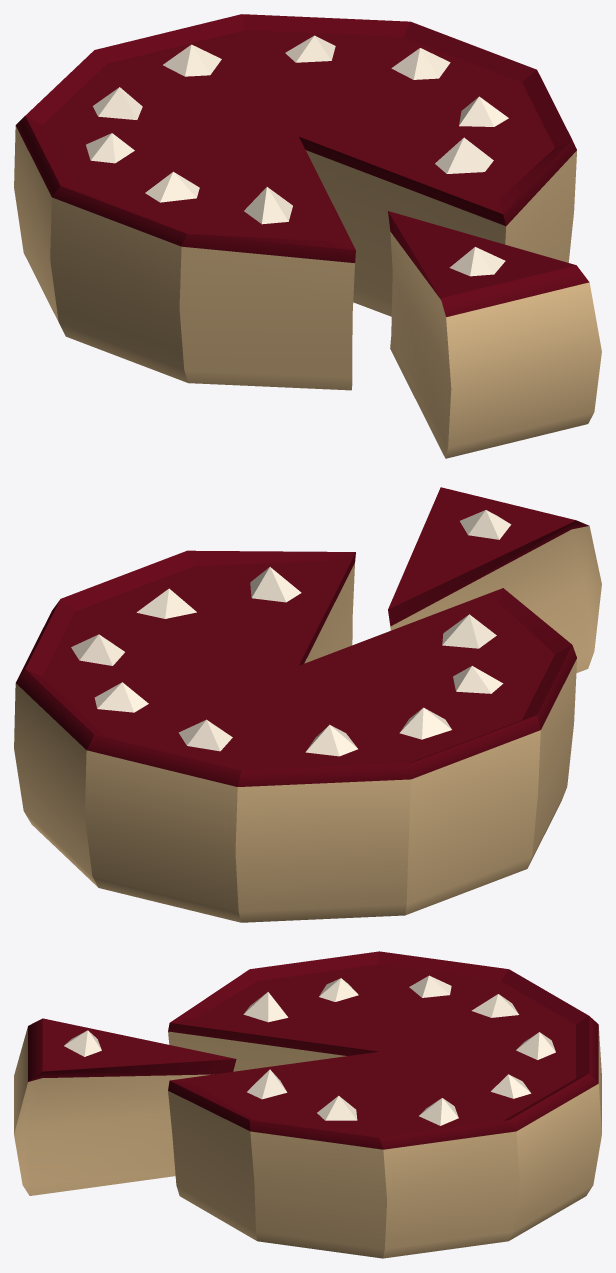
The model's file is Fancy_cake.fbx.
The picture shows the model from 3 angles, top to bottom: view 1: azimuth 30°, elevation 25°; view 2: azimuth 150°, elevation 25°; view 3: azimuth 270°, elevation 25°; orthographic projection. The views are drawn at different scales.
Parts seen in each view (by area): view 1: Fancy_cake; view 2: Fancy_cake; view 3: Fancy_cake.
Boxes of the visible parts, x1,y1,x2,y2 form: Fancy_cake: (14,14,601,458); Fancy_cake: (14,487,601,922); Fancy_cake: (14,951,601,1258).
Size of the model in its own units: 2.22 by 0.7416 by 2.89.
